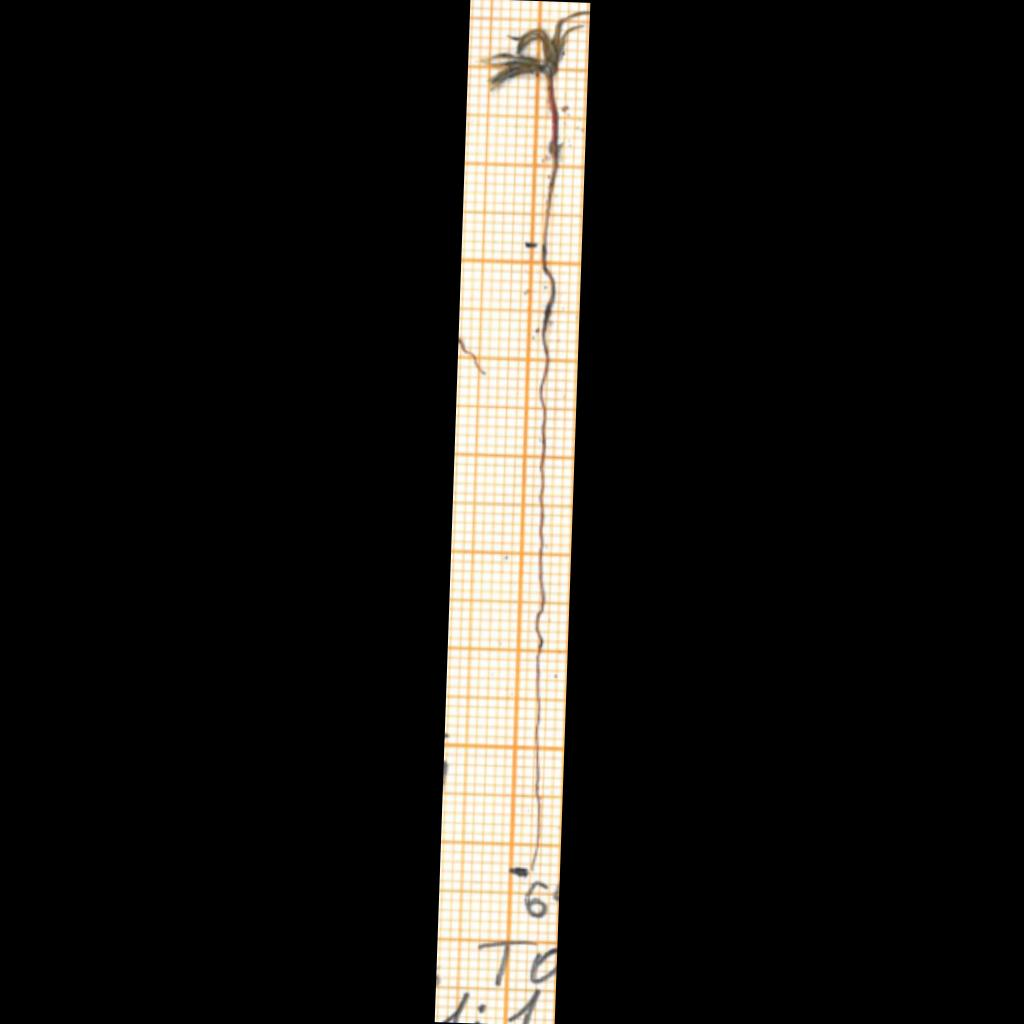flowerPinus: (491, 18, 583, 89)
rootPinus: (531, 248, 555, 870)
stemPinus: (543, 77, 558, 254)
